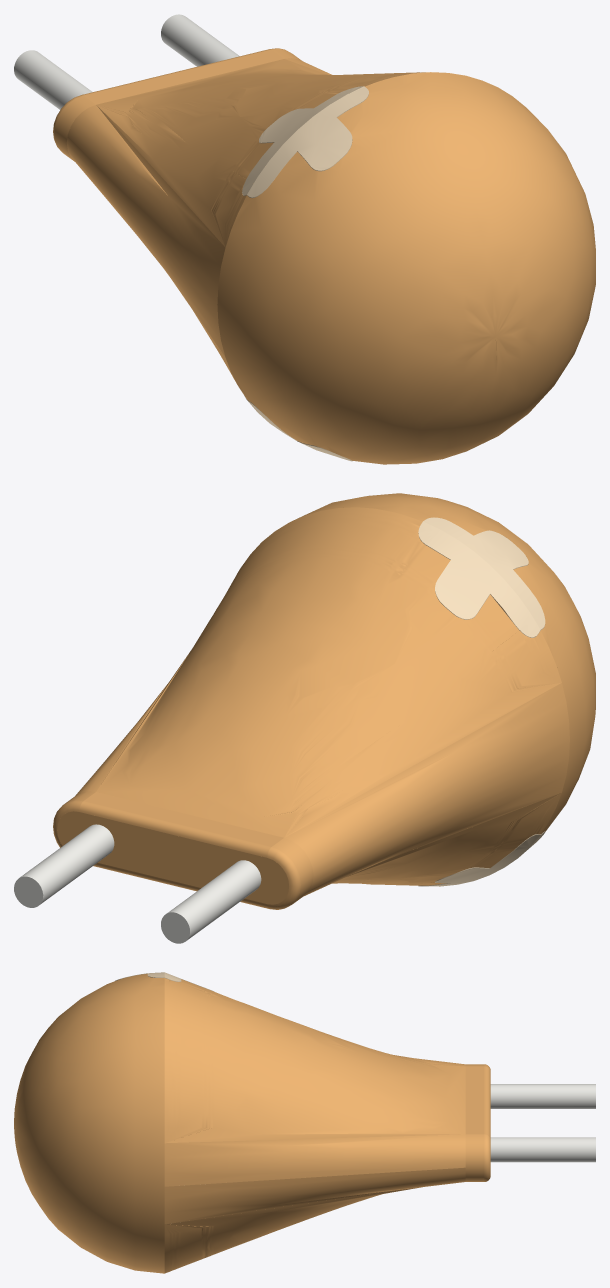
File: CP_Radial_Tantal_D6.0mm_P2.50mm.glb
The picture shows the model from 3 angles, top to bottom: view 1: azimuth 30°, elevation 25°; view 2: azimuth 150°, elevation 25°; view 3: azimuth 270°, elevation 25°; orthographic projection. The views are drawn at different scales.
Parts seen in each view (by area): view 1: Shape_IndexedFaceSet.022, Shape_IndexedFaceSet.023, Shape_IndexedFaceSet.038, Shape_IndexedFaceSet.001, Shape_IndexedFaceSet.039, Shape_IndexedFaceSet.060, Shape_IndexedFaceSet.059, Shape_IndexedFaceSet, Shape_IndexedFaceSet.053; view 2: Shape_IndexedFaceSet.023, Shape_IndexedFaceSet.038, Shape_IndexedFaceSet.022, Shape_IndexedFaceSet.058, Shape_IndexedFaceSet.026, Shape_IndexedFaceSet, Shape_IndexedFaceSet.059, Shape_IndexedFaceSet.060, Shape_IndexedFaceSet.001, Shape_IndexedFaceSet.039, Shape_IndexedFaceSet.054, Shape_IndexedFaceSet.051 (+6 smaller); view 3: Shape_IndexedFaceSet.022, Shape_IndexedFaceSet.023, Shape_IndexedFaceSet.024, Shape_IndexedFaceSet.025, Shape_IndexedFaceSet.026, Shape_IndexedFaceSet.059, Shape_IndexedFaceSet.060, Shape_IndexedFaceSet.039, Shape_IndexedFaceSet.040, Shape_IndexedFaceSet.054.
Part boxes in pixels (left/top/right/bottom): Shape_IndexedFaceSet.022: left=217, top=72, right=595, bottom=464; Shape_IndexedFaceSet.023: left=96, top=59, right=425, bottom=247; Shape_IndexedFaceSet.038: left=66, top=105, right=225, bottom=356; Shape_IndexedFaceSet.001: left=247, top=86, right=368, bottom=197; Shape_IndexedFaceSet.039: left=84, top=49, right=283, bottom=104; Shape_IndexedFaceSet.060: left=14, top=50, right=92, bottom=109; Shape_IndexedFaceSet.059: left=161, top=14, right=239, bottom=66; Shape_IndexedFaceSet: left=242, top=86, right=363, bottom=195; Shape_IndexedFaceSet.053: left=54, top=95, right=95, bottom=161; Shape_IndexedFaceSet.023: left=96, top=507, right=561, bottom=837; Shape_IndexedFaceSet.038: left=284, top=683, right=569, bottom=895; Shape_IndexedFaceSet.022: left=293, top=493, right=595, bottom=833; Shape_IndexedFaceSet.058: left=57, top=811, right=288, bottom=904; Shape_IndexedFaceSet.026: left=332, top=793, right=561, bottom=885; Shape_IndexedFaceSet: left=418, top=521, right=540, bottom=637; Shape_IndexedFaceSet.059: left=19, top=824, right=114, bottom=904; Shape_IndexedFaceSet.060: left=168, top=860, right=261, bottom=940; Shape_IndexedFaceSet.001: left=423, top=517, right=545, bottom=629; Shape_IndexedFaceSet.039: left=84, top=792, right=283, bottom=846; Shape_IndexedFaceSet.054: left=79, top=801, right=270, bottom=857; Shape_IndexedFaceSet.051: left=429, top=834, right=540, bottom=886; Shape_IndexedFaceSet.022: left=14, top=973, right=164, bottom=1273; Shape_IndexedFaceSet.023: left=164, top=978, right=465, bottom=1143; Shape_IndexedFaceSet.024: left=164, top=1134, right=465, bottom=1186; Shape_IndexedFaceSet.025: left=164, top=1167, right=465, bottom=1224; Shape_IndexedFaceSet.026: left=164, top=1187, right=420, bottom=1273; Shape_IndexedFaceSet.059: left=490, top=1137, right=595, bottom=1162; Shape_IndexedFaceSet.060: left=490, top=1084, right=595, bottom=1108; Shape_IndexedFaceSet.039: left=465, top=1066, right=484, bottom=1134; Shape_IndexedFaceSet.040: left=465, top=1134, right=484, bottom=1181; Shape_IndexedFaceSet.054: left=484, top=1066, right=490, bottom=1138.
Size of the model in its own units: 2.36 by 2.36 by 4.57.
